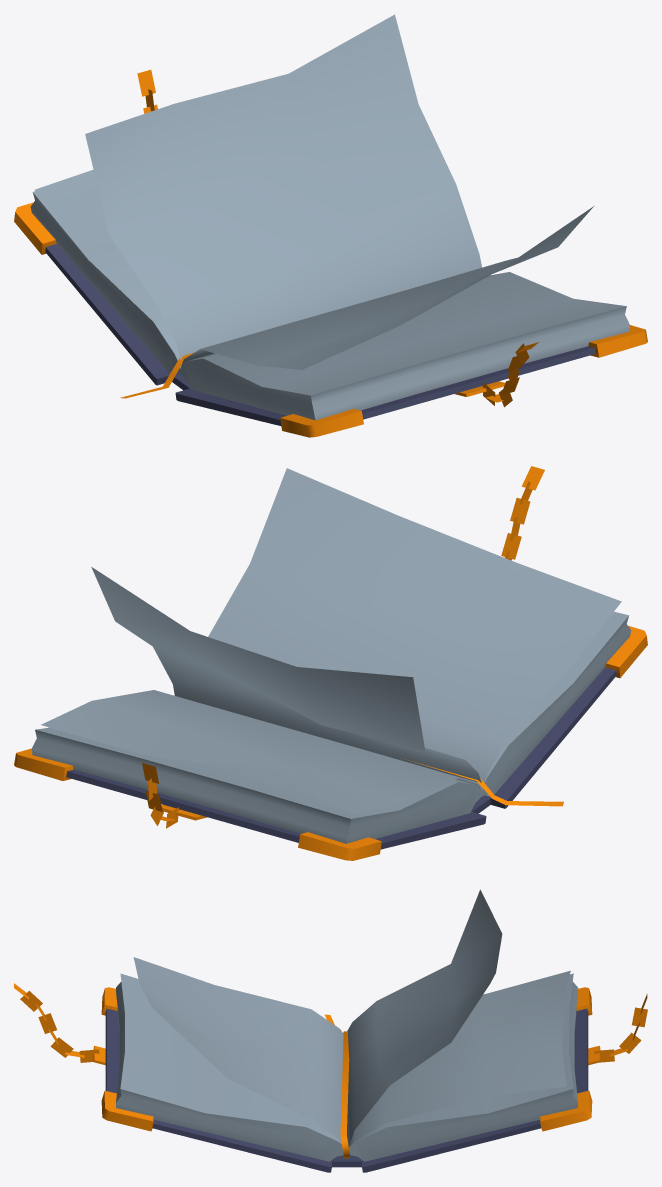
Rendered from book.fbx.
3 renders of one model, top to bottom at view 1: azimuth 30°, elevation 25°; view 2: azimuth 150°, elevation 25°; view 3: azimuth 270°, elevation 25°, orthographic. The views are drawn at different scales.
Parts seen in each view (by area): view 1: book_body.001; view 2: book_body.001; view 3: book_body.001.
Part boxes in pixels (x1,y1,x2,y2): book_body.001: [14, 14, 647, 437]; book_body.001: [14, 466, 647, 860]; book_body.001: [14, 889, 647, 1172].
Size of the model in its own units: 676 by 391 by 1164.
